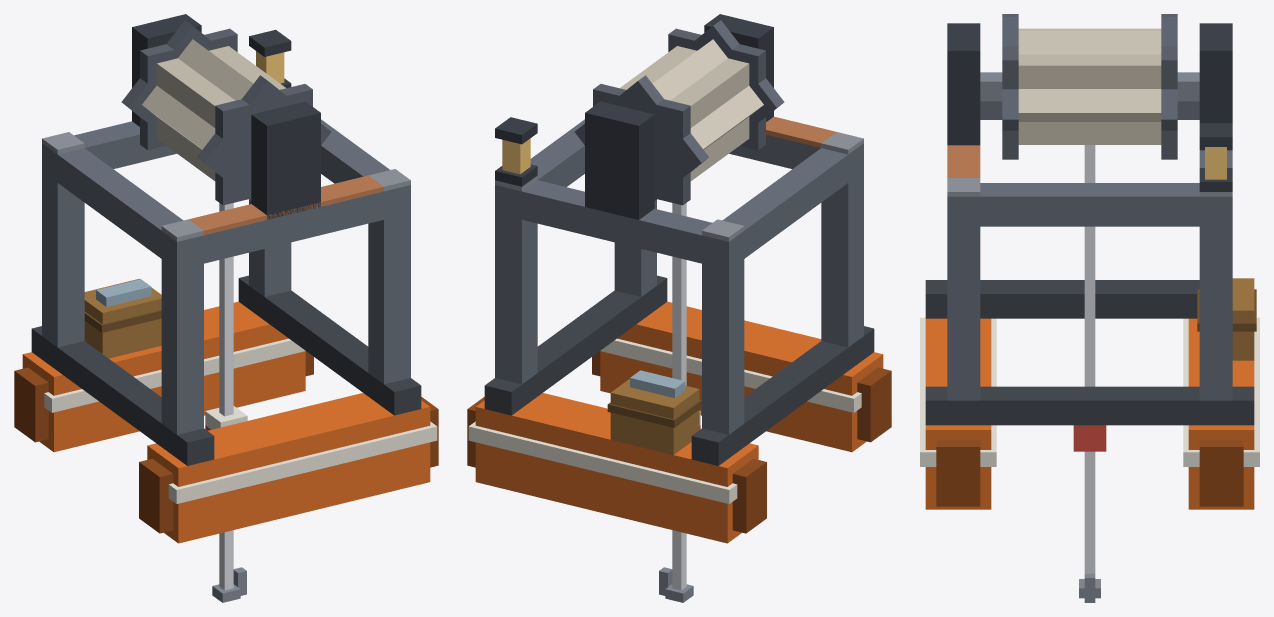
Rendered from fishery.glb.
3 views of the same model, side by side, from view 1: azimuth 30°, elevation 25°; view 2: azimuth 150°, elevation 25°; view 3: azimuth 270°, elevation 25° (orthographic). The views are drawn at different scales.
Parts seen in each view (by area): view 1: body.047, winch, line, tier.022; view 2: body.047, winch, line, tier.022; view 3: body.047, winch, line, tier.022.
Boxes of the visible parts, box(x1,y1,x2,y2) form: body.047: box(14, 14, 438, 543); winch: box(121, 20, 331, 205); line: box(205, 203, 247, 602); tier.022: box(189, 175, 383, 235); body.047: box(467, 14, 891, 543); winch: box(574, 20, 784, 205); line: box(659, 203, 700, 602); tier.022: box(766, 116, 836, 147); body.047: box(920, 23, 1259, 509); winch: box(1002, 14, 1177, 159); line: box(1073, 145, 1106, 602); tier.022: box(947, 145, 980, 177).
Bounding box in the file's own units: 0.9688 × 1.81 × 0.9688.
